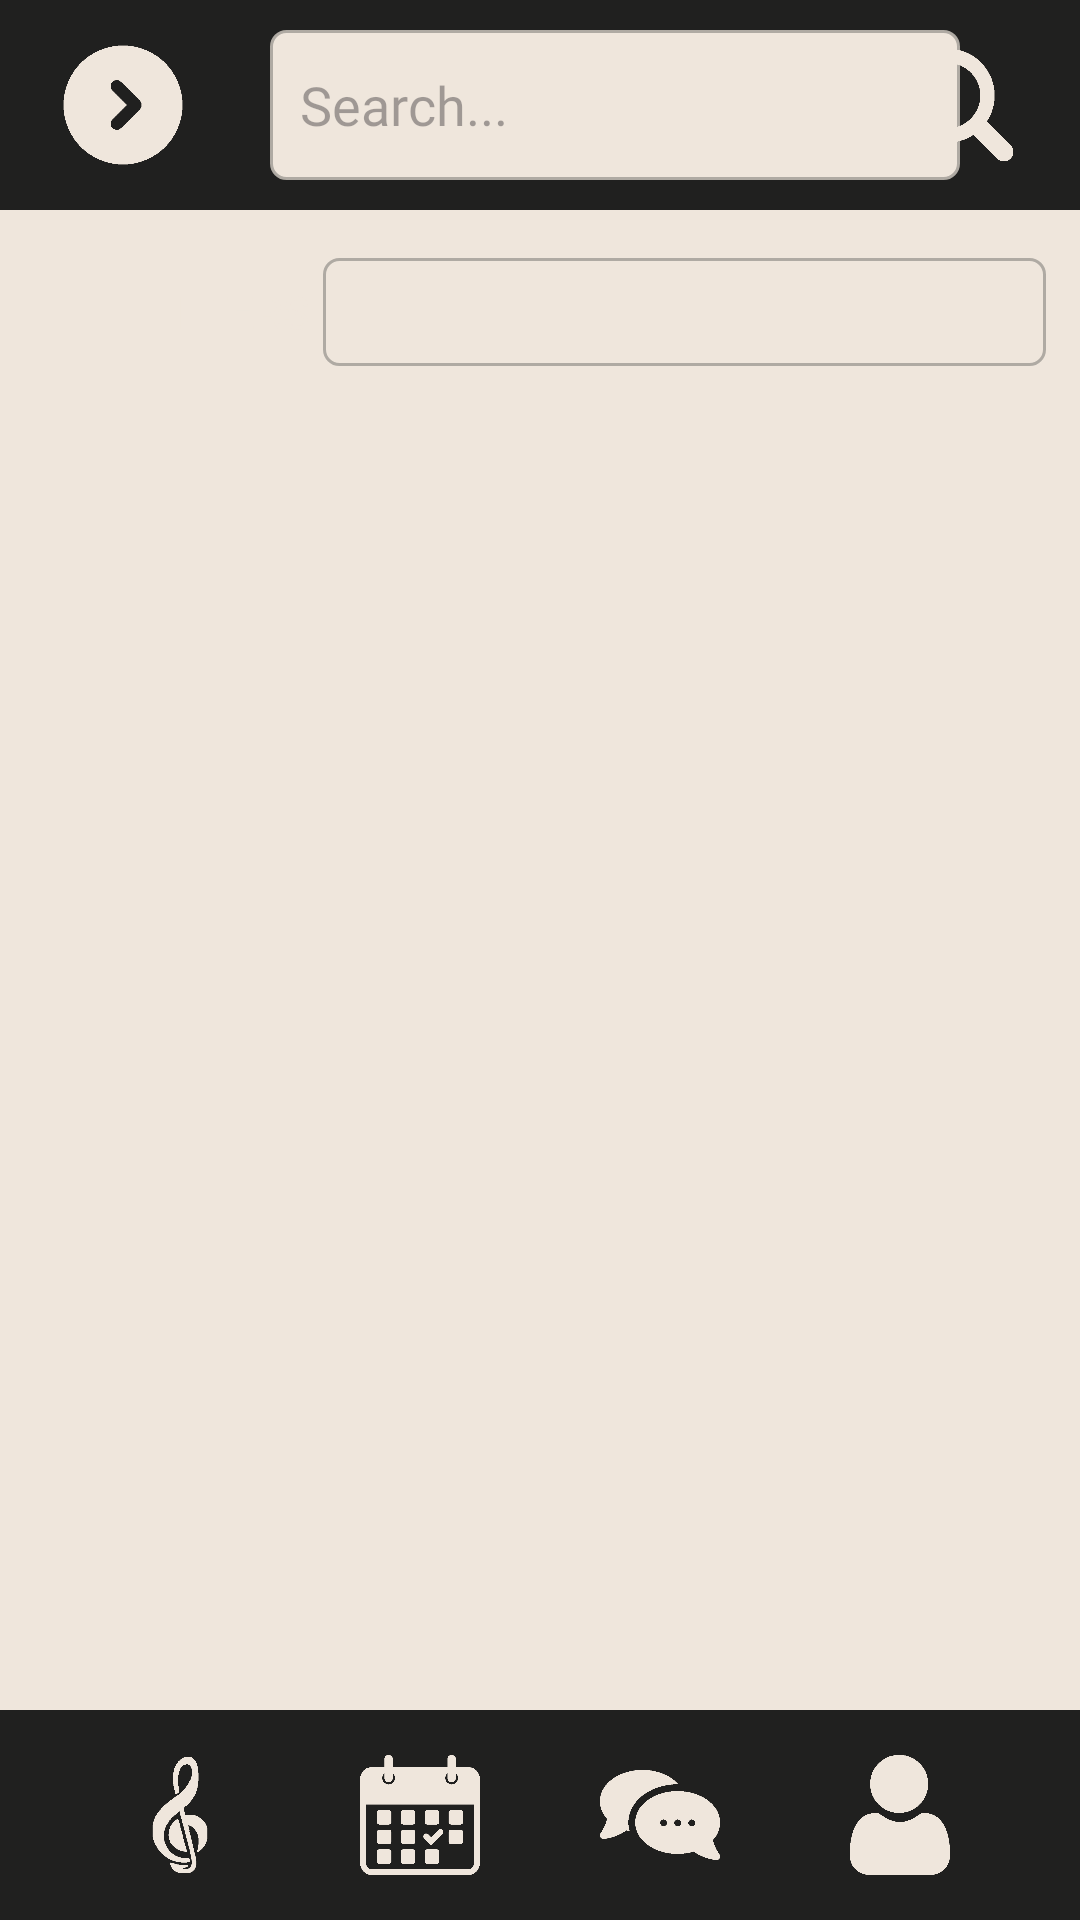

Named icons in this screenshot (1080×1920) and their centers, (x,y):
chat: (660,1815)
musician: (180,1815)
user: (900,1815)
